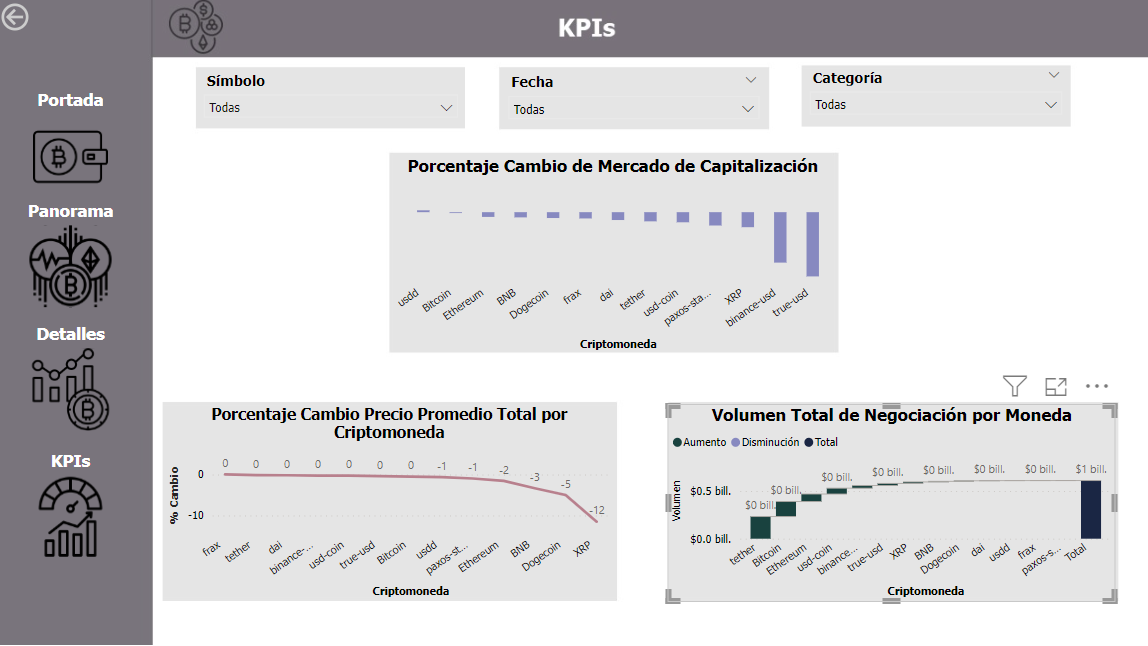

Layout of this report page (visuals, bound fields, positions):
{"tool":"powerbi","page":{"name":"KPIs","canvas":[1280,720],"ordinal":3},"visuals":[{"type":"ribbonChart","title":"Porcentaje Cambio de Mercado de Capitalización","fields":{"Category":["Cryptocurrency.Currency"],"Y":["Cryptocurrency.Porcentaje Cambio MarketCap Total"]},"box":[435,173.3,498.3,221.7],"z":0},{"type":"lineChart","title":"Porcentaje Cambio Precio Promedio Total por Criptomoneda","fields":{"Y":["Cryptocurrency.Porcentaje Cambio Precio Promedio Total"],"Category":["Cryptocurrency.Currency"]},"box":[186.7,450,498.3,220],"z":1000},{"type":"waterfallChart","title":"Volumen Total de Negociación por Moneda","fields":{"Category":["Cripto_Id.Currency"],"Y":["Cryptocurrency.Volumen Total de Negociación por Criptomoneda"]},"box":[745,450,498.3,220],"z":2000},{"type":"slicer","fields":{"Values":["Cripto_Id.Symbol"]},"box":[220,75,301.7,68.3],"z":3000},{"type":"slicer","fields":{"Values":["calendario.Date"]},"box":[558.3,76.7,298.3,66.7],"z":4000},{"type":"slicer","fields":{"Values":["Cripto_Id.Category"]},"box":[893.3,71.7,300,75],"z":5000},{"type":"actionButton","title":"Portada","box":[0,100,163.3,123.3],"z":5001},{"type":"actionButton","title":"Panorama","box":[0,223.3,163.3,123.3],"z":5002},{"type":"actionButton","title":"Detalles","box":[0,360,163.3,123.3],"z":5003},{"type":"actionButton","title":"KPIs","box":[0,501.7,163.3,123.3],"z":5004},{"type":"actionButton","box":[0,0,100,40],"z":5005}]}

Visuals, with their boxes on the page's 1280x720 design canvas (x1, y1, x2, y2). These are canvas units, not pixel positions in the 1148x646 screenshot, which may show the page scaled, cropped or inside an application window:
"Porcentaje Cambio de Mercado de Capitalización" ribbonChart: [x1=435, y1=173, x2=933, y2=395]
"Porcentaje Cambio Precio Promedio Total por Criptomoneda" lineChart: [x1=187, y1=450, x2=685, y2=670]
"Volumen Total de Negociación por Moneda" waterfallChart: [x1=745, y1=450, x2=1243, y2=670]
slicer - Cripto_Id.Symbol: [x1=220, y1=75, x2=522, y2=143]
slicer - calendario.Date: [x1=558, y1=77, x2=857, y2=143]
slicer - Cripto_Id.Category: [x1=893, y1=72, x2=1193, y2=147]
"Portada" actionButton: [x1=0, y1=100, x2=163, y2=223]
"Panorama" actionButton: [x1=0, y1=223, x2=163, y2=347]
"Detalles" actionButton: [x1=0, y1=360, x2=163, y2=483]
"KPIs" actionButton: [x1=0, y1=502, x2=163, y2=625]
actionButton: [x1=0, y1=0, x2=100, y2=40]
